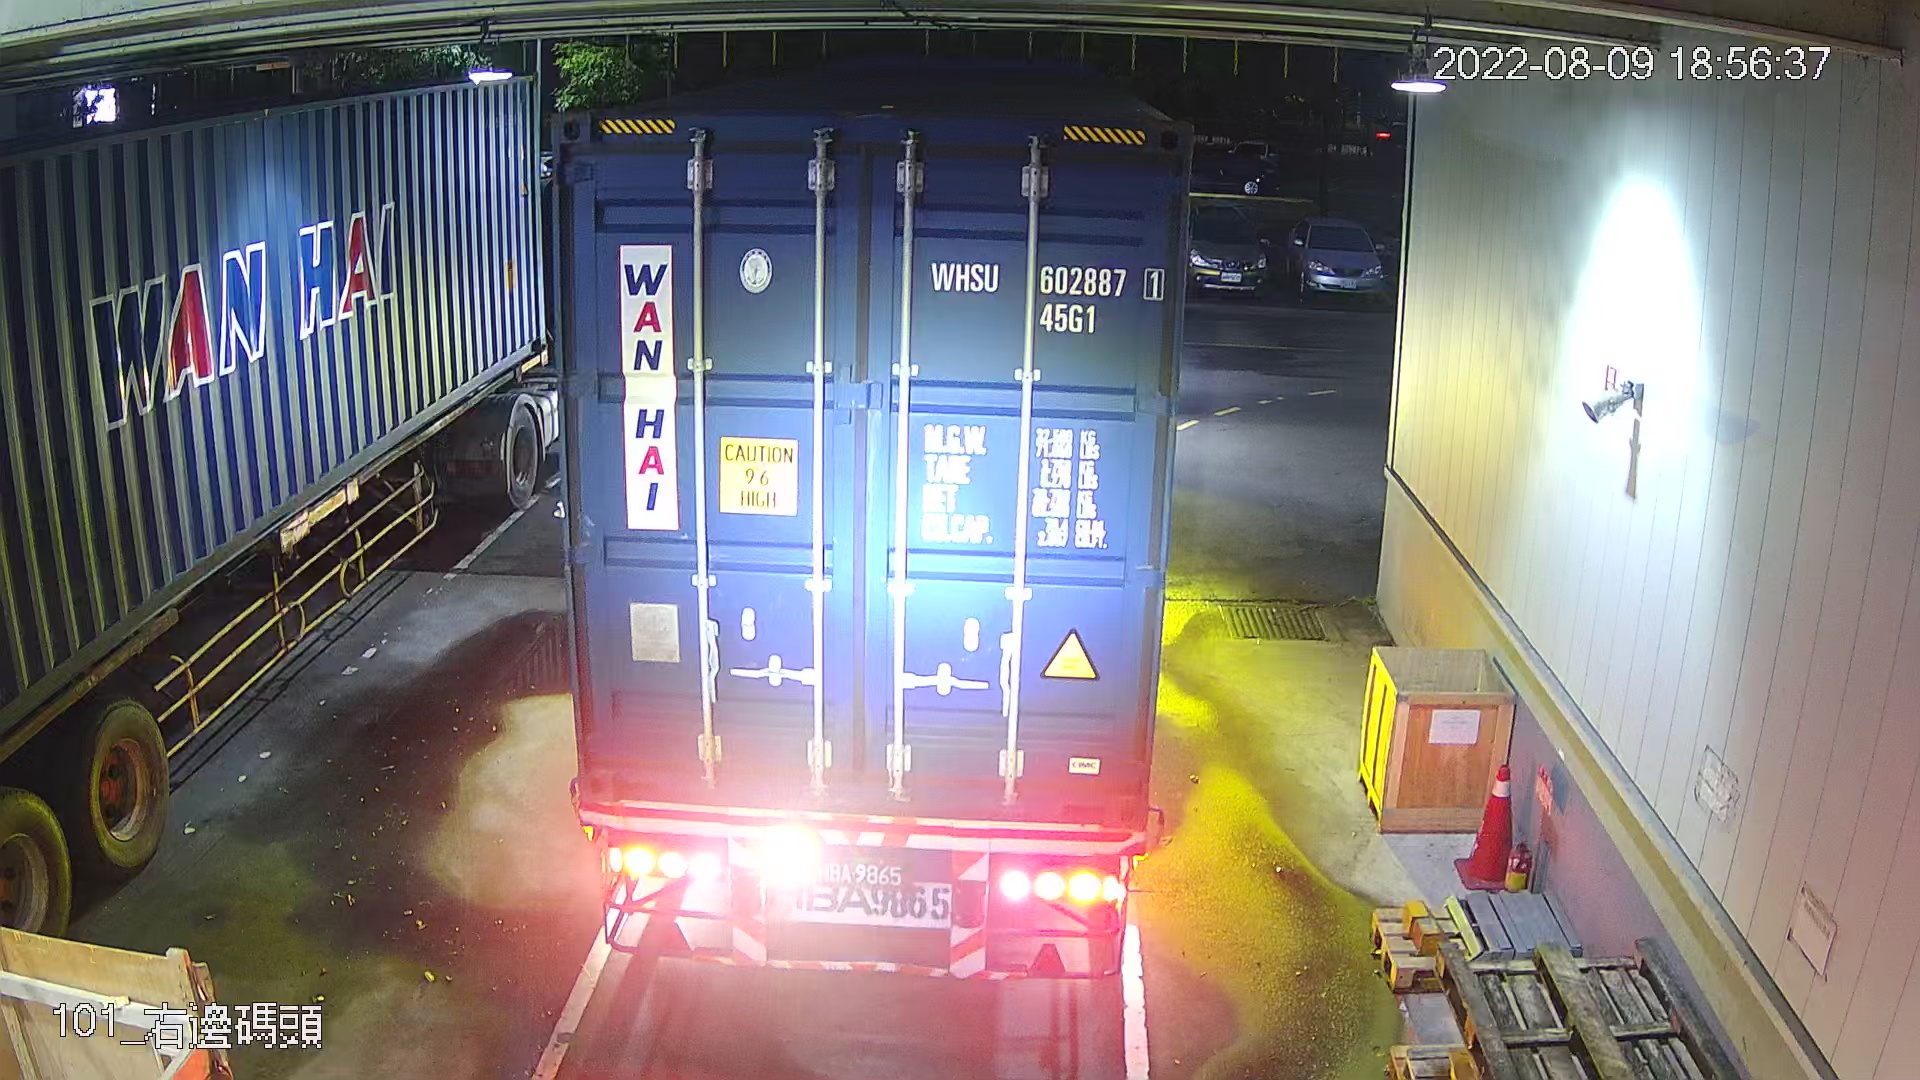container: (923, 251, 1170, 342)
